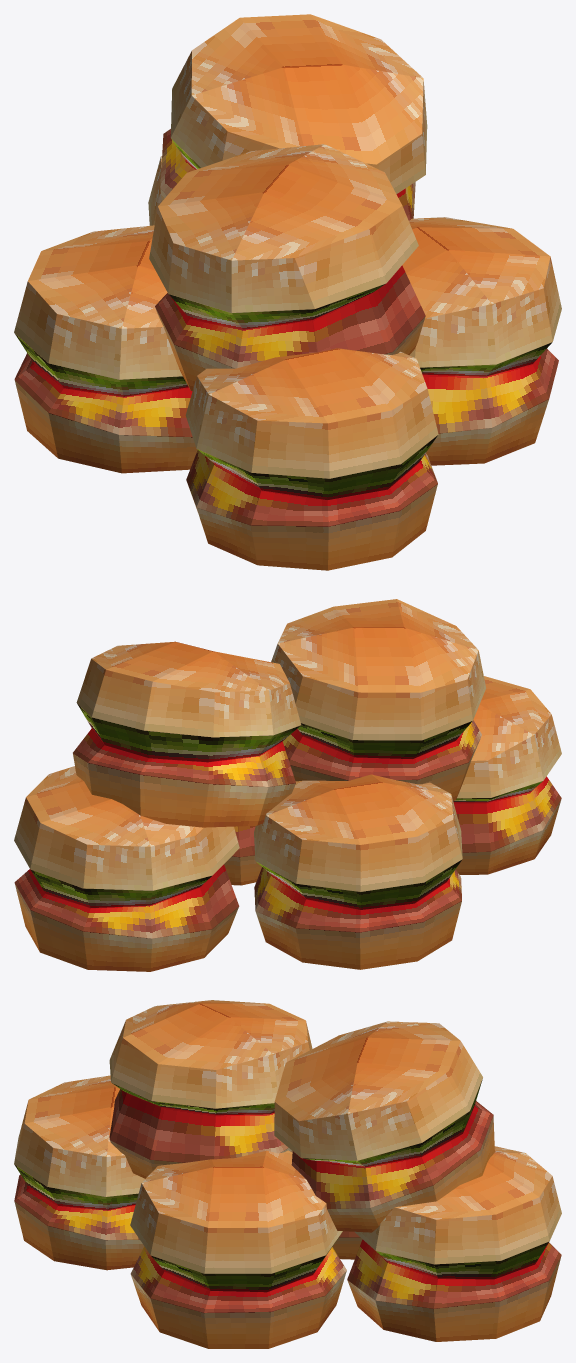
Rendered from pile-burger.glb.
3 views of the same model, one above another, from view 1: azimuth 30°, elevation 25°; view 2: azimuth 150°, elevation 25°; view 3: azimuth 270°, elevation 25° (orthographic). The views are drawn at different scales.
Parts seen in each view (by area): view 1: pile-burger; view 2: pile-burger; view 3: pile-burger.
Boxes of the visible parts, <box> form: pile-burger: <box>14,14,561,570</box>; pile-burger: <box>14,599,561,971</box>; pile-burger: <box>14,1000,561,1348</box>.
Size of the model in its own units: 0.5465 by 0.3712 by 0.7328.
1 material, 1 textured.
